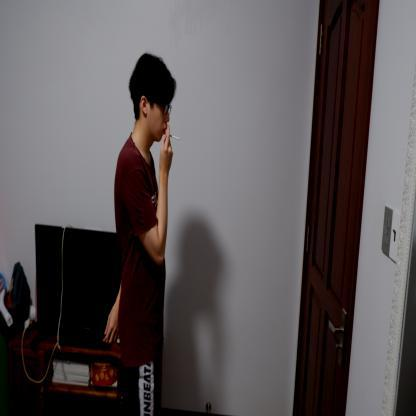cigarette: (170, 134, 180, 142)
person: (108, 51, 176, 416)
